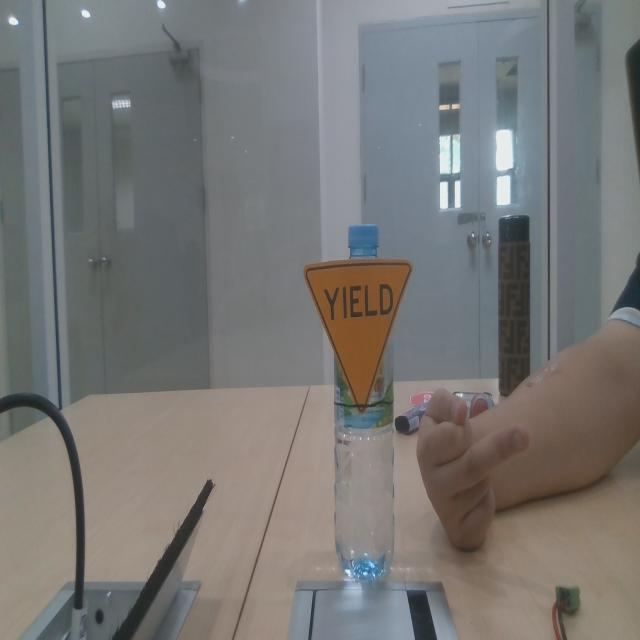Yield: (302, 243, 418, 424)
